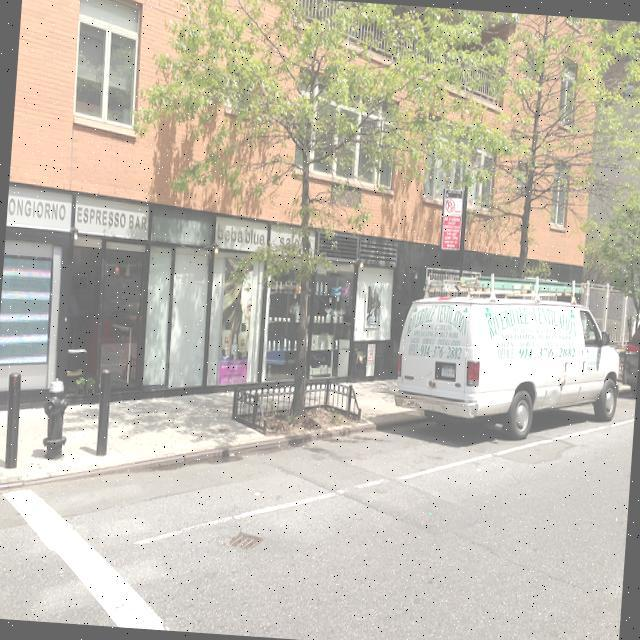fire_hydrant: (40, 376, 70, 460)
